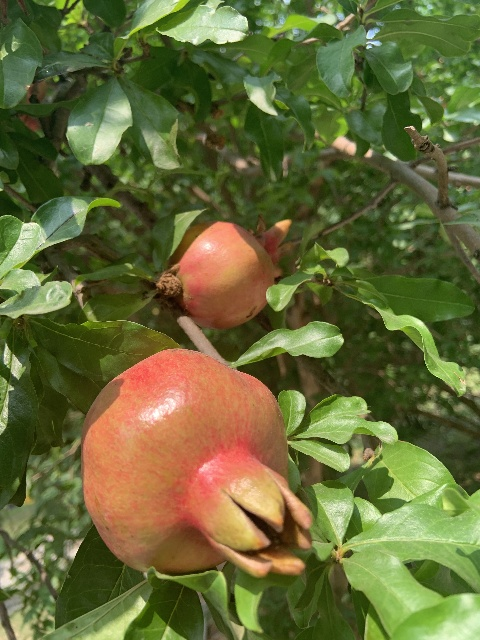early-fruit: (173, 213, 292, 329)
ripe: (81, 348, 312, 580)
